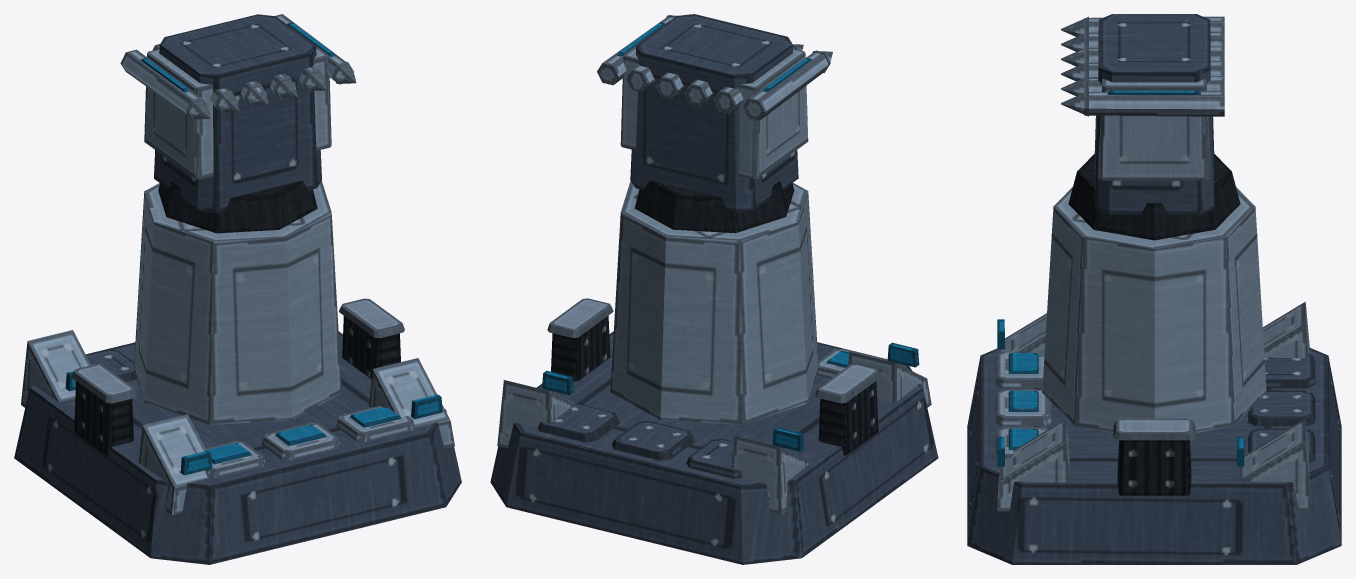
The model's file is building-aa_turret.fbx.
3 renders of one model, left to right at view 1: azimuth 30°, elevation 25°; view 2: azimuth 150°, elevation 25°; view 3: azimuth 270°, elevation 25°, orthographic. The views are drawn at different scales.
Visible parts, largest first — view 1: building-aa_turret; view 2: building-aa_turret; view 3: building-aa_turret.
Boxes of the visible parts, left/top/right/bottom form: building-aa_turret: left=14, top=14, right=461, bottom=564; building-aa_turret: left=490, top=14, right=938, bottom=564; building-aa_turret: left=967, top=14, right=1341, bottom=564.
Size of the model in its own units: 728 by 950 by 728.
1 material, 1 textured.
